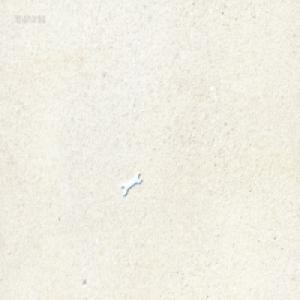Wrench: (120, 171, 142, 197)
